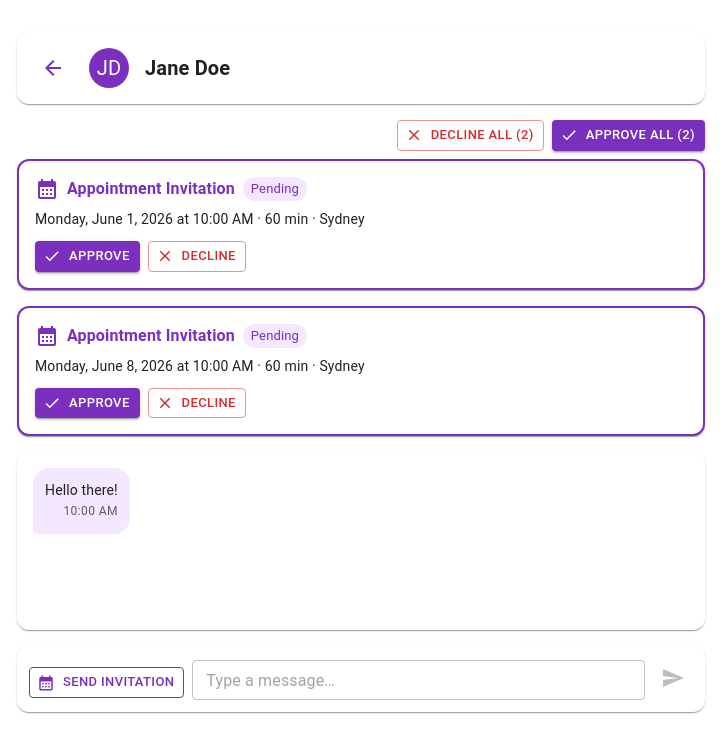
it: ConversationView › as a support worker › Approve All › clears pending invitation cards after "Approve All"
What coordinates should you click on to do the following:
click the button "Approve All (2)"
I would click on:
 (628, 135)
Its box is [552, 120, 705, 151].
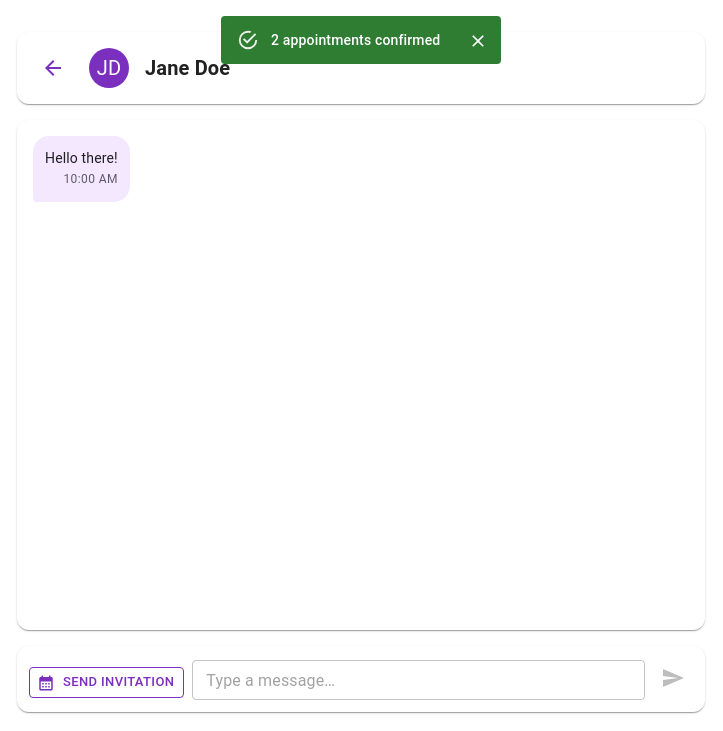
Now the text "Appointment Invitation" is gone
